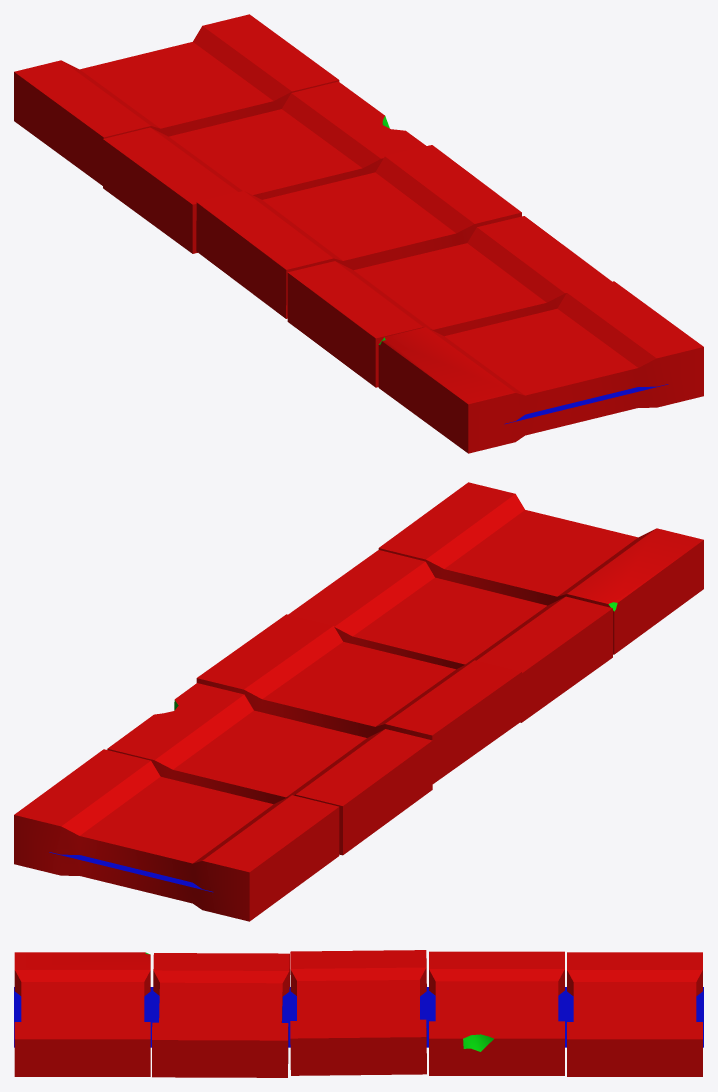
File: Drain_coverX5.FBX
3 renders of one model, top to bottom at view 1: azimuth 30°, elevation 25°; view 2: azimuth 150°, elevation 25°; view 3: azimuth 270°, elevation 25°, orthographic. The views are drawn at different scales.
Parts seen in each view (by area): view 1: Box001; view 2: Box001; view 3: Box001.
Boxes of the visible parts, box(x1,y1,x2,y2) form: Box001: box(14, 14, 703, 453); Box001: box(14, 482, 703, 921); Box001: box(14, 950, 703, 1077).
Bounding box in the file's own units: 0.5062 × 1.67 × 0.1086.
